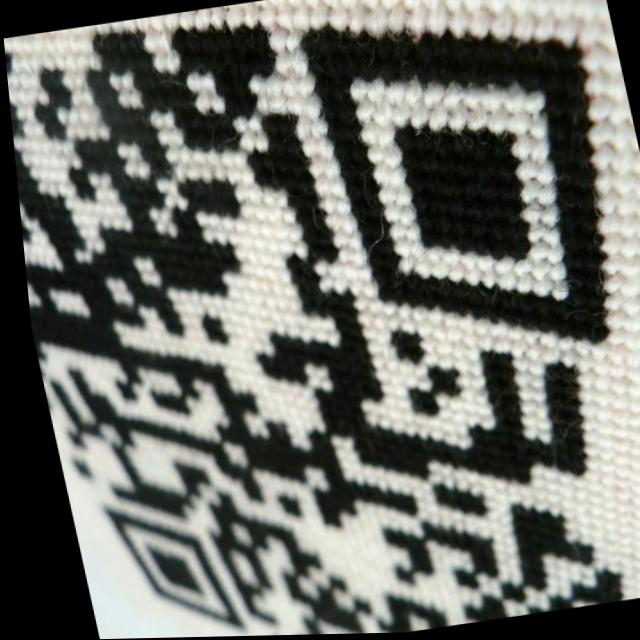qrcode: (1, 1, 640, 640)
